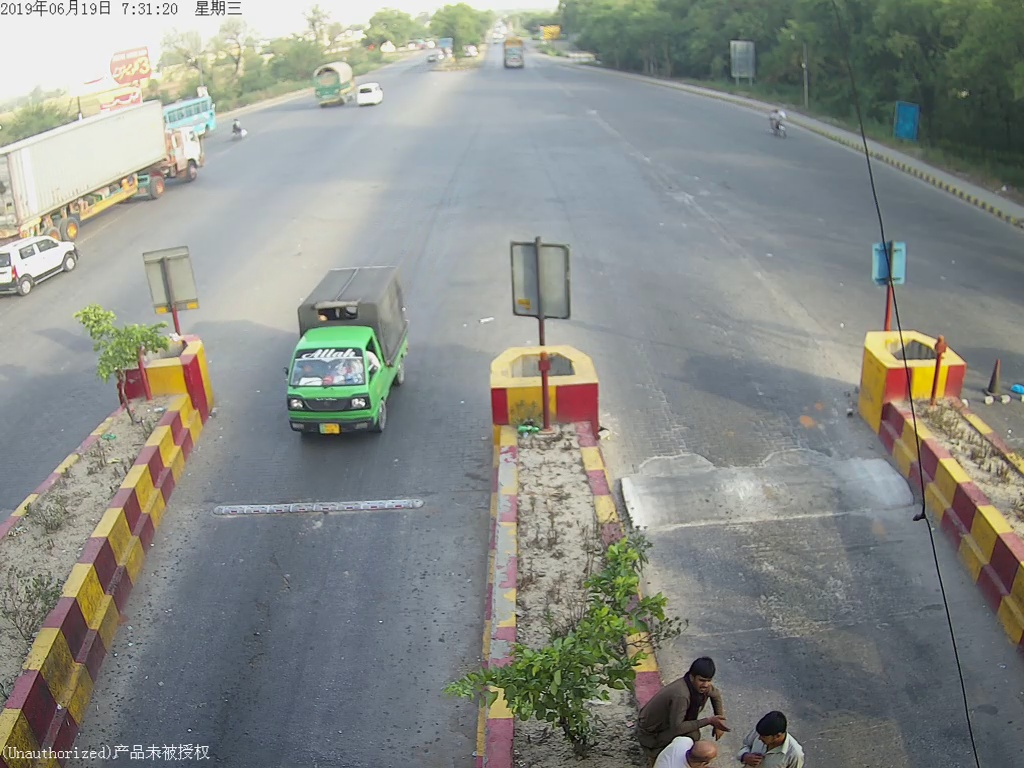Cat-1: (266, 266, 424, 442)
